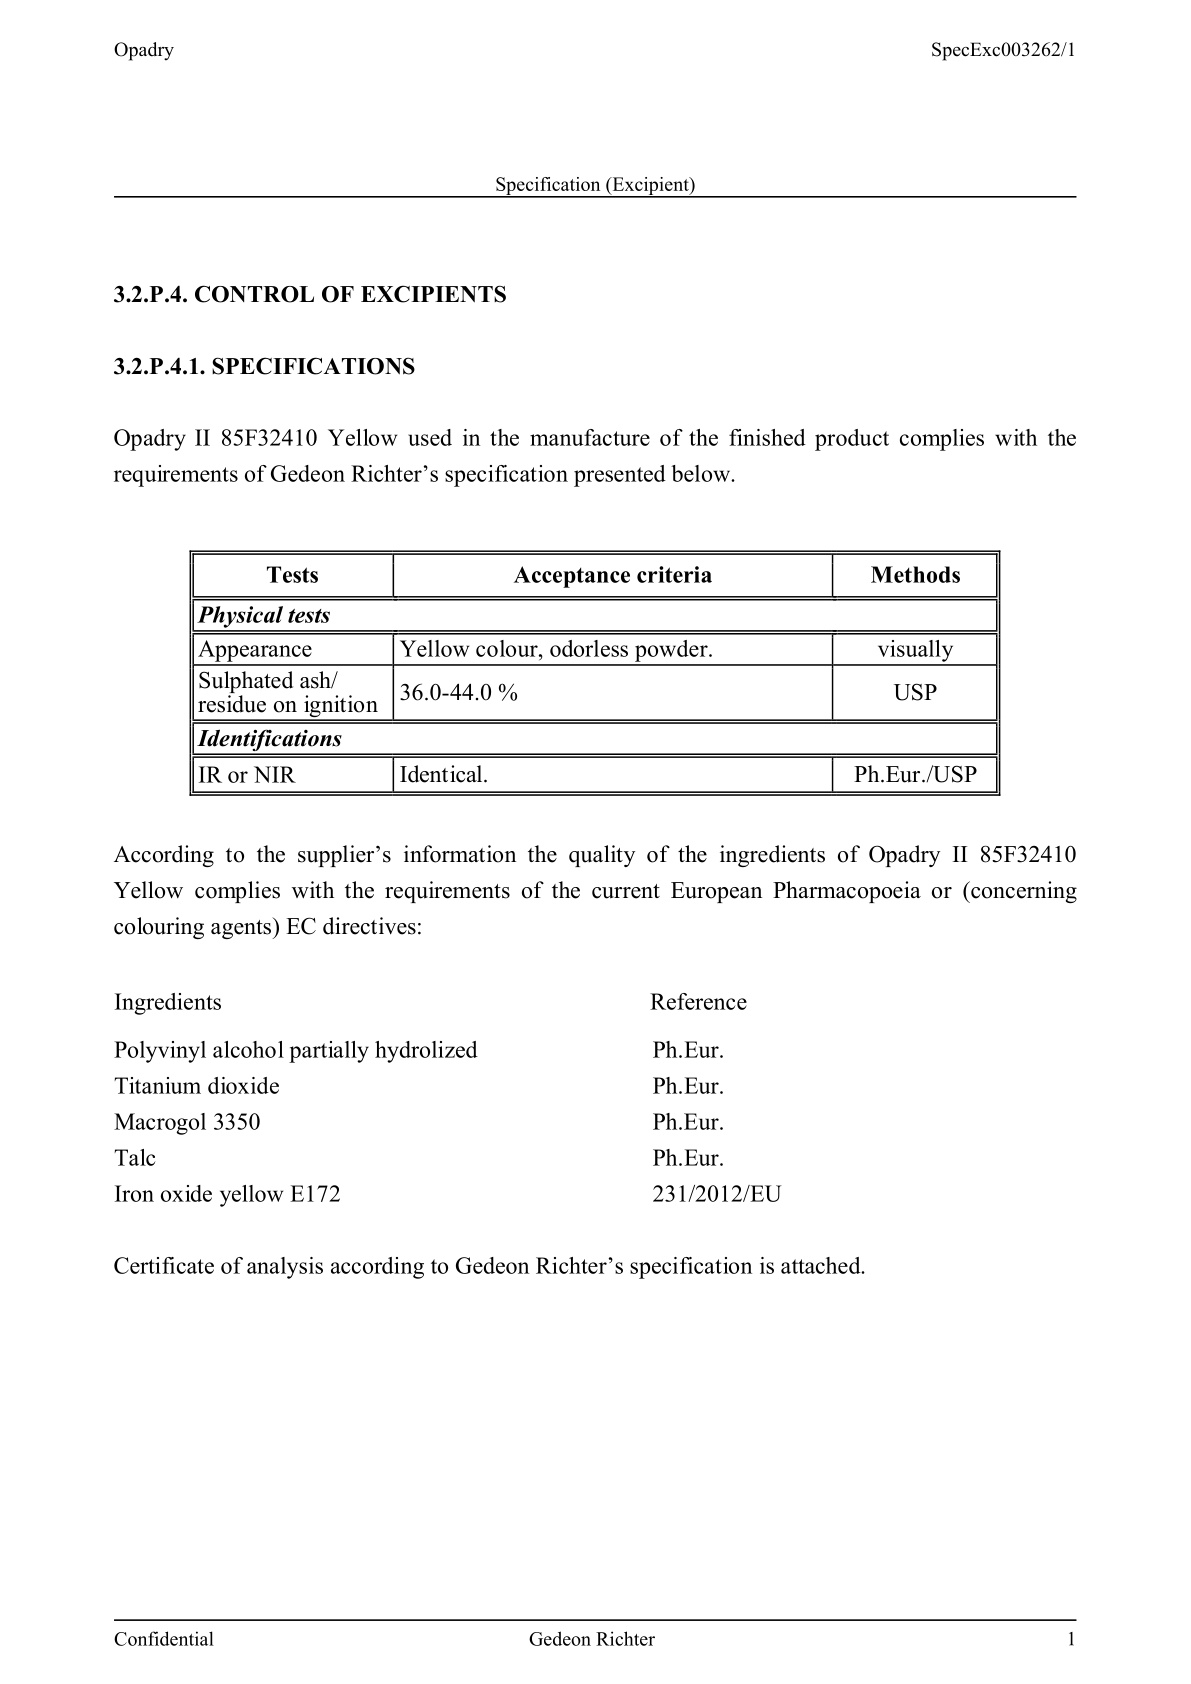merged_cells: (188, 549, 1002, 796)
nolines: (113, 990, 782, 1207)
